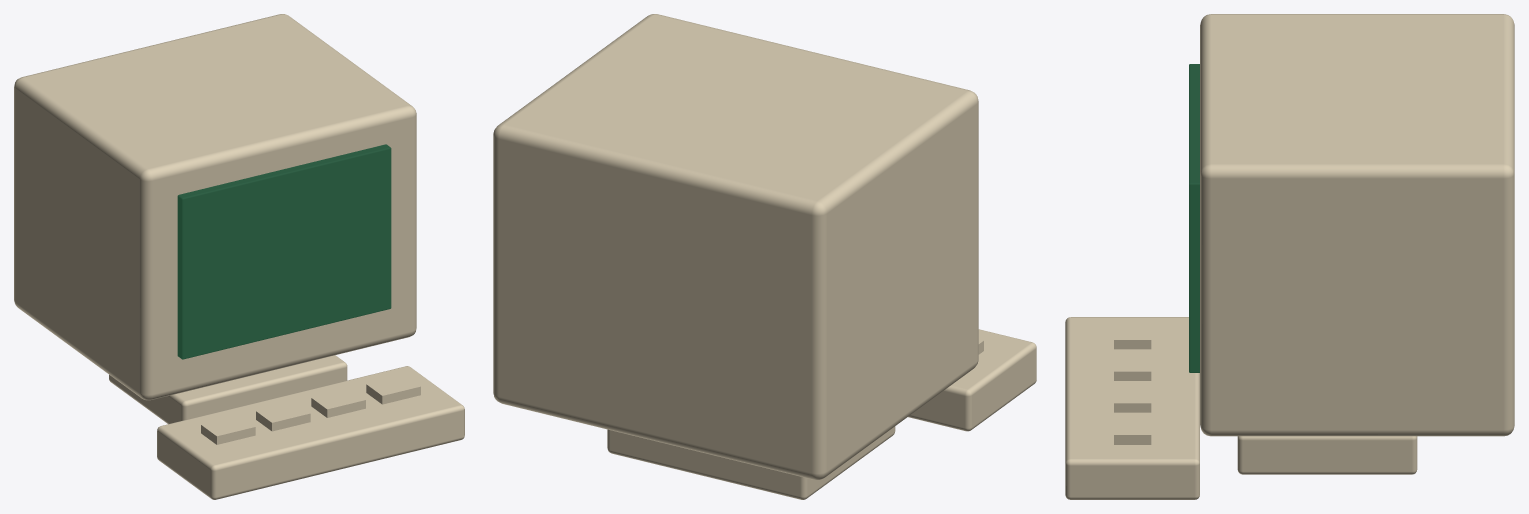
The picture shows the model from 3 angles, left to right: view 1: azimuth 30°, elevation 25°; view 2: azimuth 150°, elevation 25°; view 3: azimuth 270°, elevation 25°; orthographic projection. The views are drawn at different scales.
Size of the model in its own units: 0.5 by 0.5 by 0.6.
